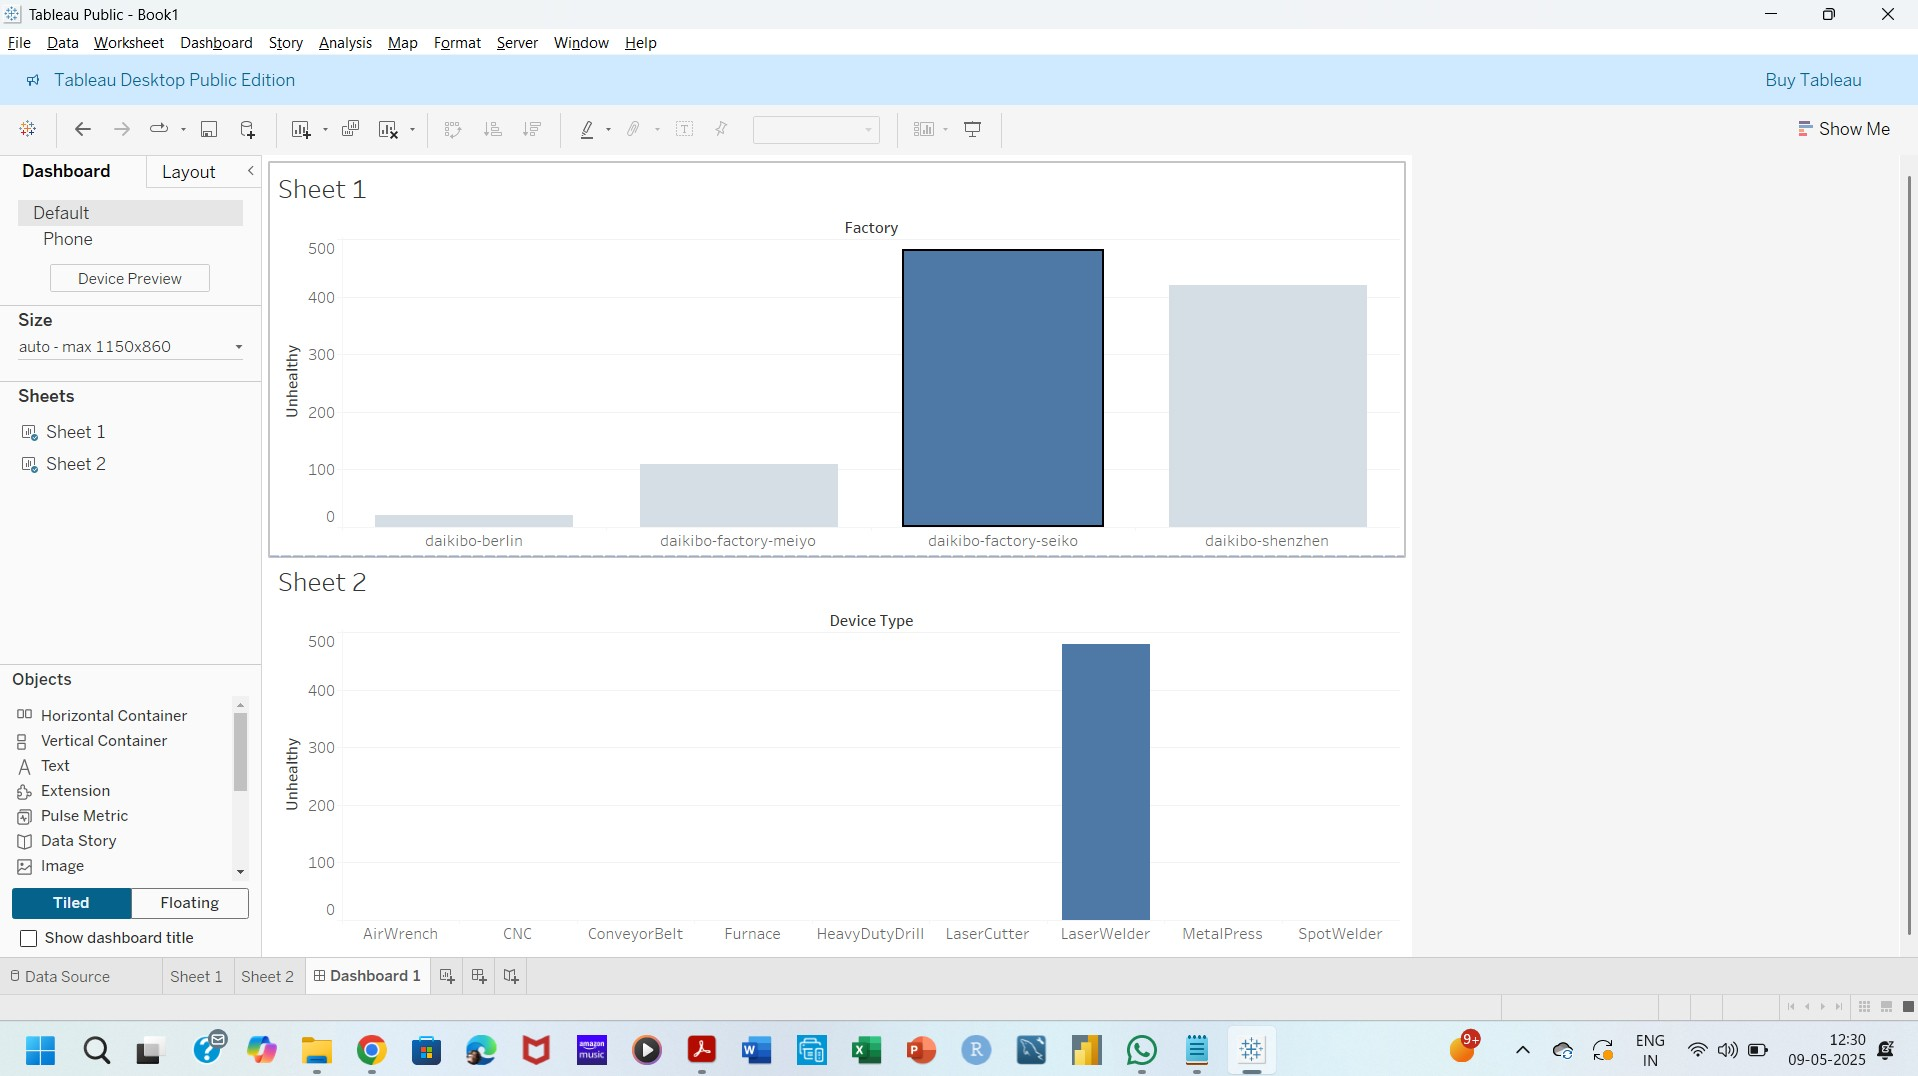

This screenshot's page, from the dashboard's own definition file:
{"tool":"tableau","page":{"name":"Dashboard 1","canvas":[1000,1000],"units":"permille","ordinal":0},"visuals":[{"type":"worksheet","title":"Sheet 1","mark":"Automatic","rows":["Calculation_4333870224371789824"],"cols":["factory"],"box":[7,10,986.1,490]},{"type":"worksheet","title":"Sheet 2","mark":"Automatic","rows":["Calculation_4333870224371789824"],"cols":["deviceType"],"box":[7,500,986.1,490]}]}

Visuals, with their boxes on the dashboard's canvas, which has no fixed pixel size, in thousandths of its width and height (x1, y1, x2, y2). These are canvas units, not pixel positions in the 1918x1076 screenshot, which may show the page scaled, cropped or inside an application window:
"Sheet 1" worksheet: bbox=[7, 10, 993, 500]
"Sheet 2" worksheet: bbox=[7, 500, 993, 990]
